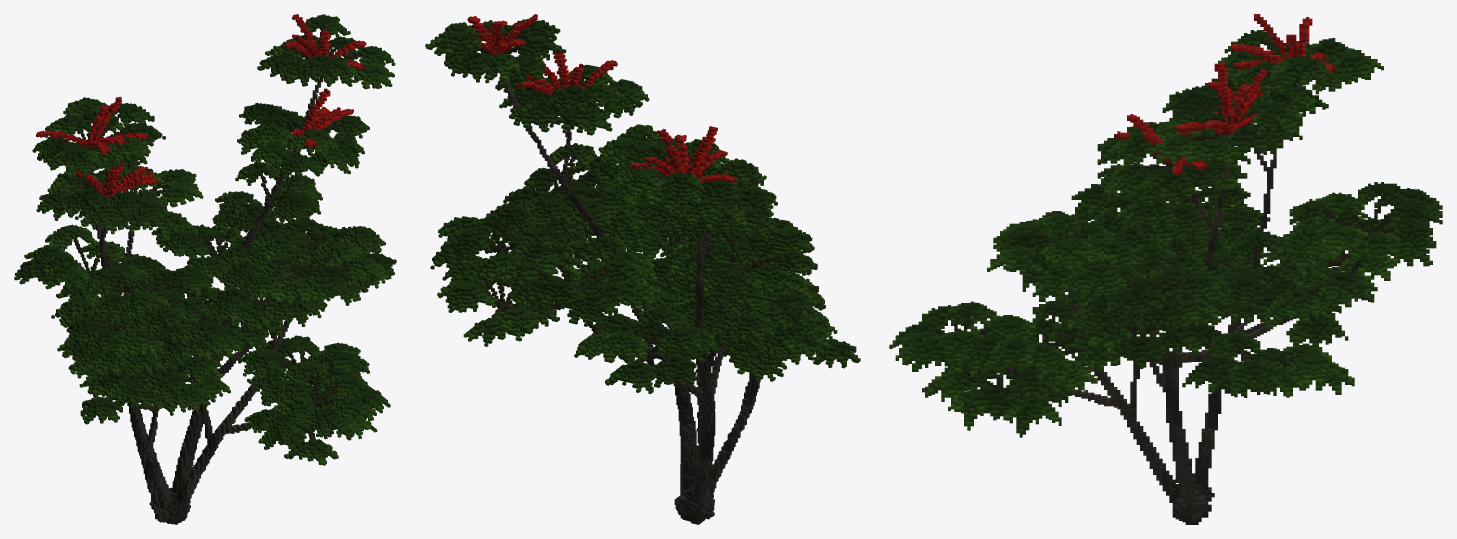
The model's file is arvore_folhas_largas_01_LOD0.fbx.
3 renders of one model, left to right at view 1: azimuth 30°, elevation 25°; view 2: azimuth 150°, elevation 25°; view 3: azimuth 270°, elevation 25°, orthographic. The views are drawn at different scales.
Visible parts, largest first — view 1: arvore_folhas_largas_01_LOD0; view 2: arvore_folhas_largas_01_LOD0; view 3: arvore_folhas_largas_01_LOD0.
Part boxes in pixels (<box>): arvore_folhas_largas_01_LOD0: <box>14,14,396,524</box>; arvore_folhas_largas_01_LOD0: <box>425,14,860,524</box>; arvore_folhas_largas_01_LOD0: <box>889,14,1442,524</box>.
Size of the model in its own units: 735 by 915 by 850.
